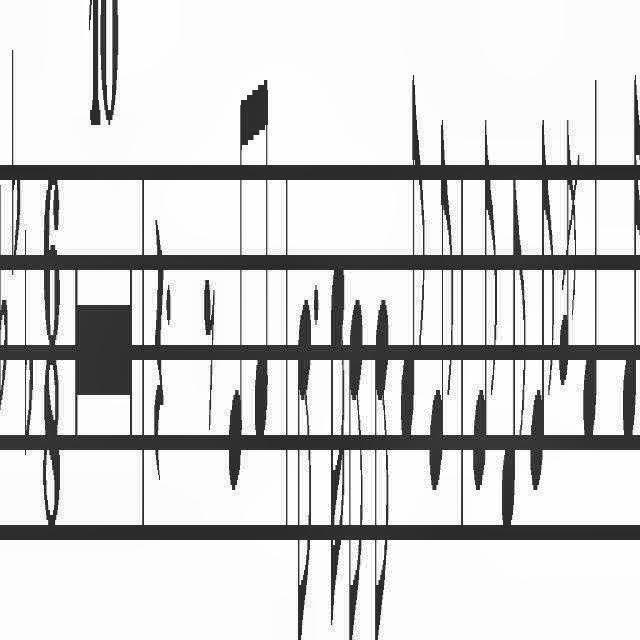Bemol: (6, 18, 22, 290), (22, 204, 36, 472), (0, 150, 8, 425)
Eighth-note: (498, 128, 526, 558), (528, 93, 556, 511), (400, 17, 426, 463), (470, 108, 498, 522), (426, 114, 454, 500), (252, 62, 272, 506), (226, 90, 246, 500), (296, 264, 314, 640), (372, 264, 388, 640), (346, 280, 362, 640)
Eighth-rest: (199, 256, 217, 458)
Quarter-note: (578, 46, 602, 510)
Quarter-rest: (148, 100, 164, 552)
Sixteenth-note: (619, 45, 640, 475), (327, 225, 345, 640), (639, 45, 640, 475)
